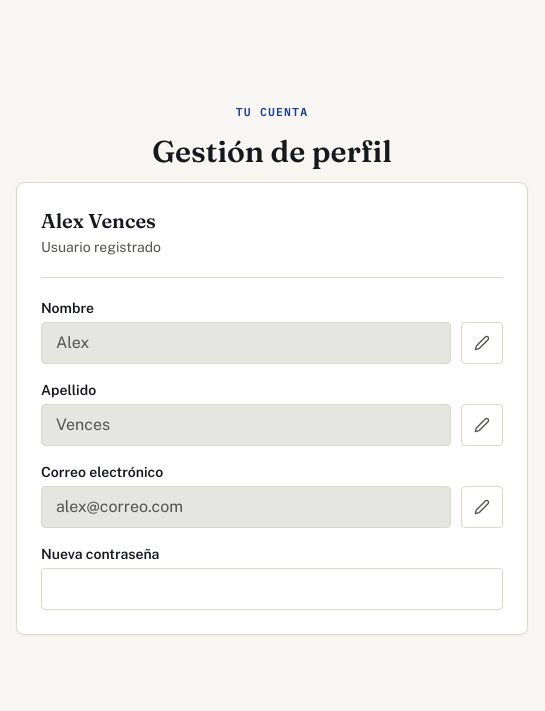
Test: GestionarPerfil: cambio de correo y contraseña › changing the email shows a required current password and blocks saving without it
The width and height of the screenshot is (545, 711).
Click the button named "Editar correo": [482, 507] box [461,486,503,528]
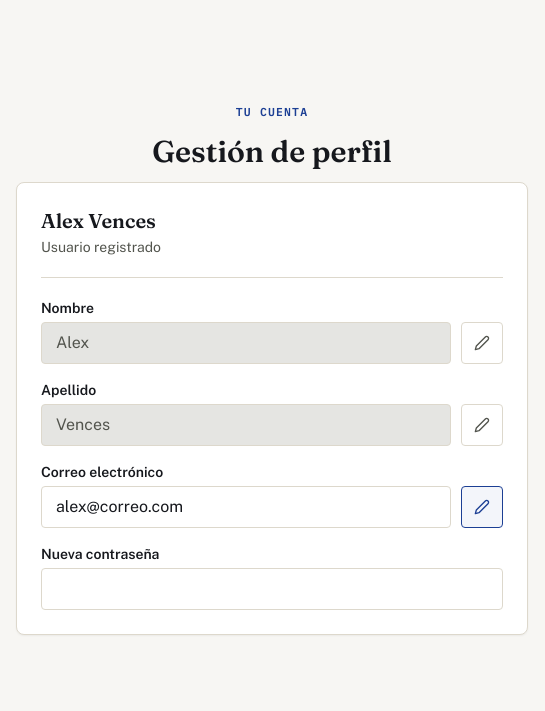
Replace the text in the field labelled "Correo electrónico" with "nuevo@correo.com": [246, 507] box [41,486,451,528]
(page scrolled)
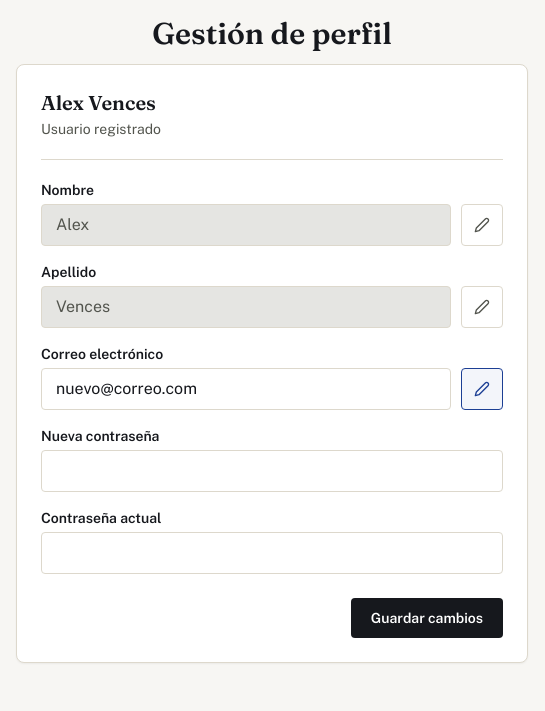
Click the button "Guardar cambios": [427, 618] box [351,598,503,638]
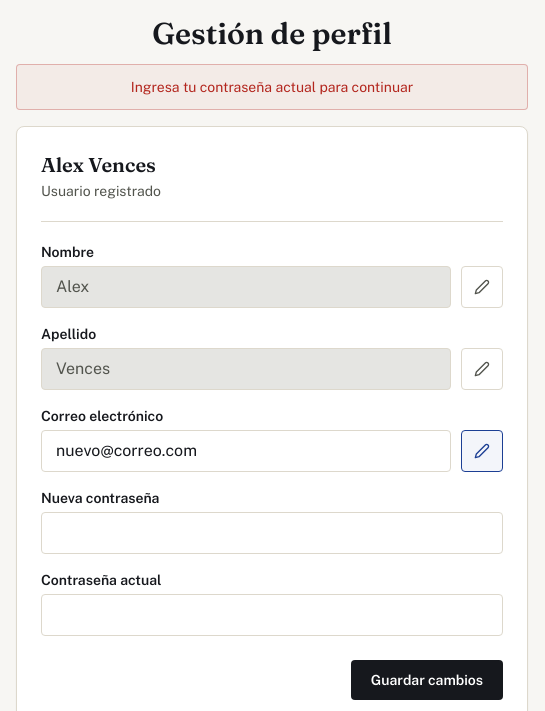
Expected: the text "Ingresa tu contraseña actual para continuar" is shown, [16,64,528,110]
